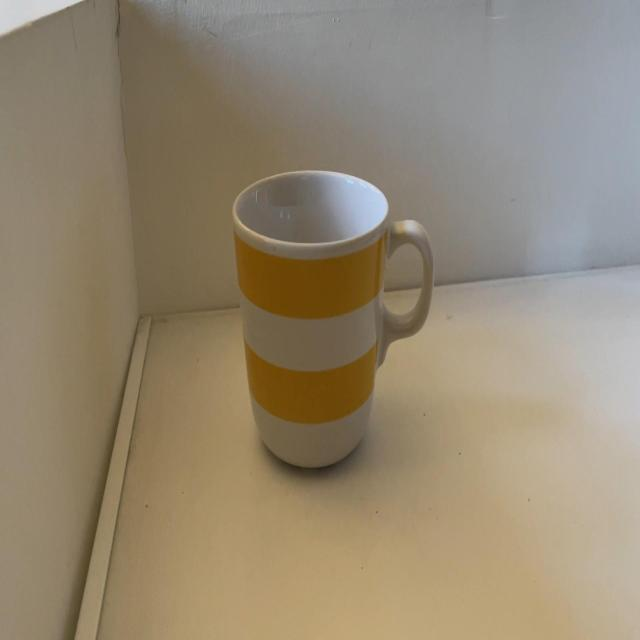cup: (232, 173, 440, 474)
